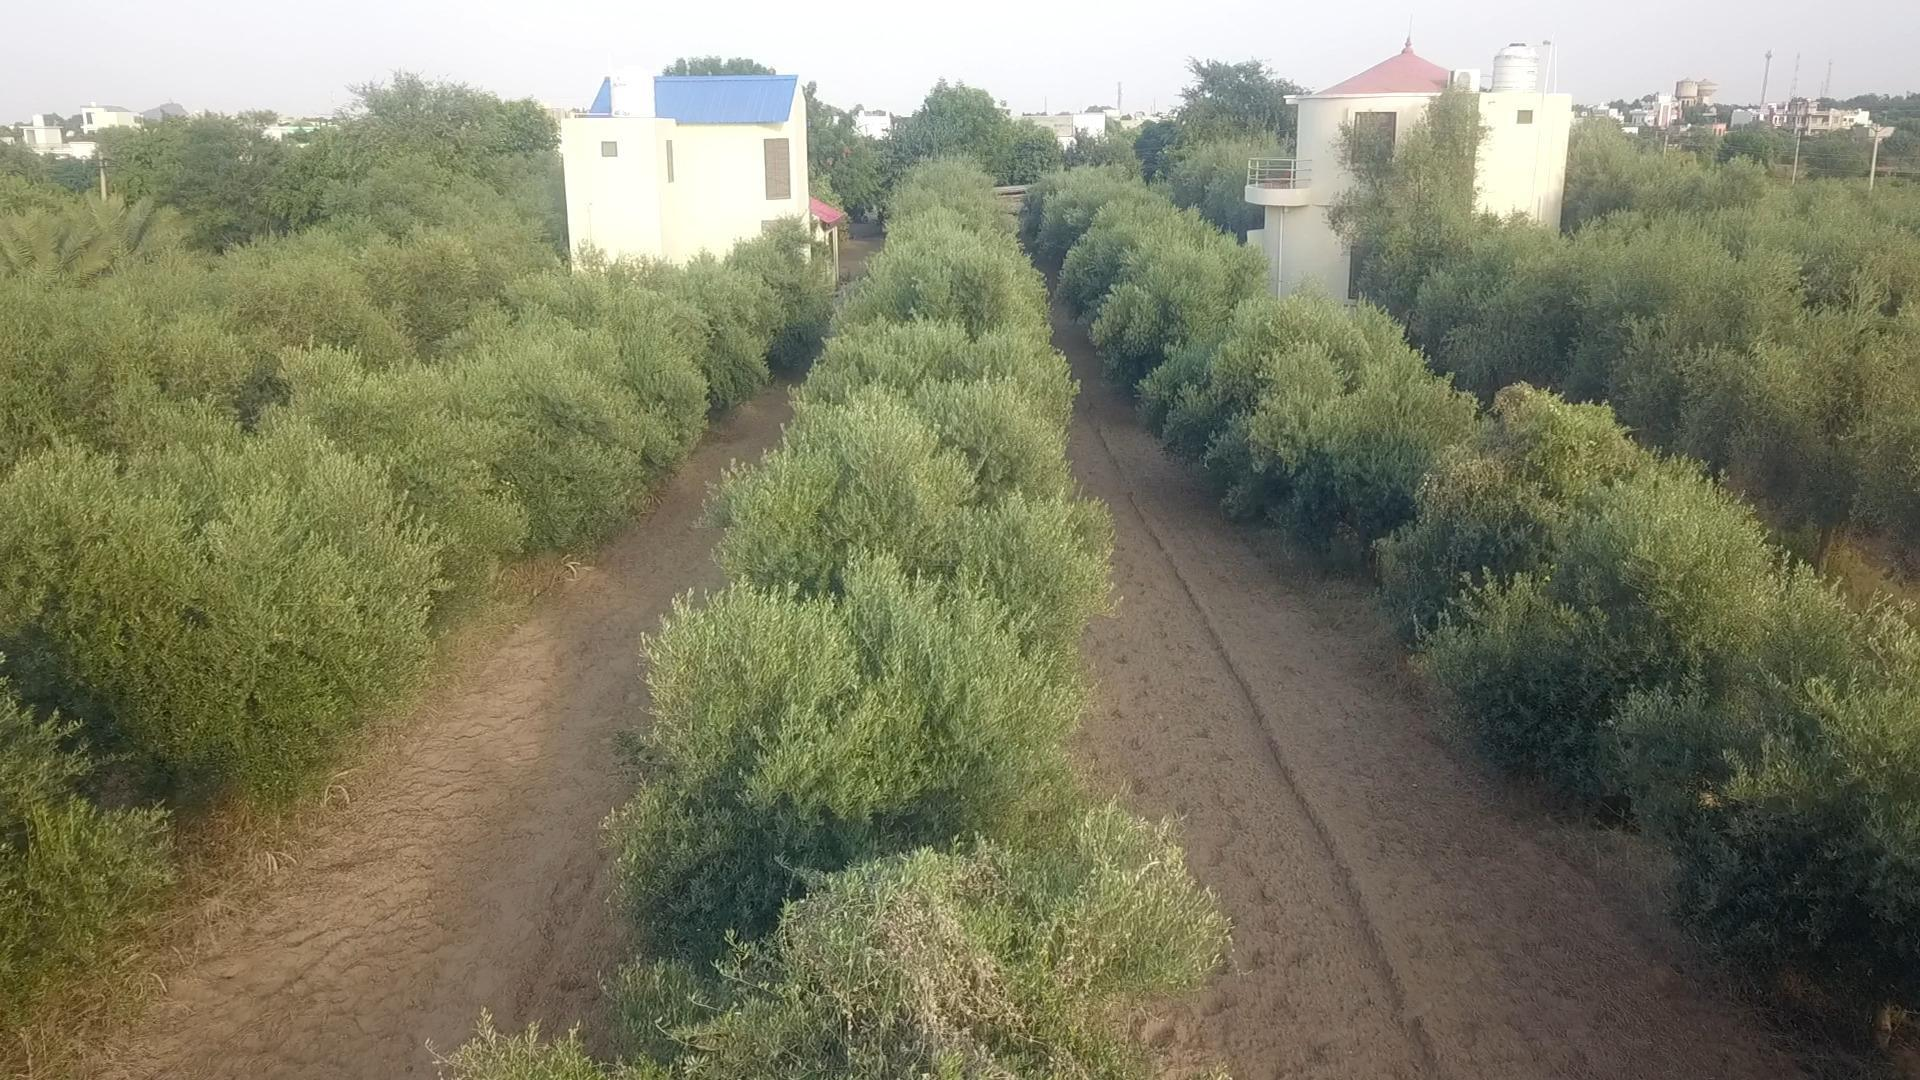canopy: (1038, 169, 1919, 996), (0, 225, 831, 993), (611, 162, 1228, 1077), (1404, 194, 1919, 563)
road: (1052, 305, 1807, 1079), (102, 388, 790, 1079)
